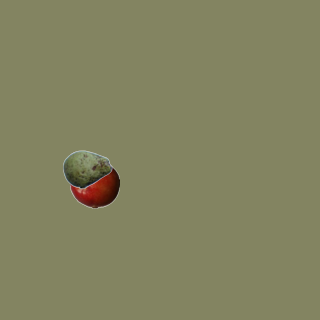Apple Braeburn: (69, 158, 119, 208)
Pear Stone: (62, 144, 112, 194)
